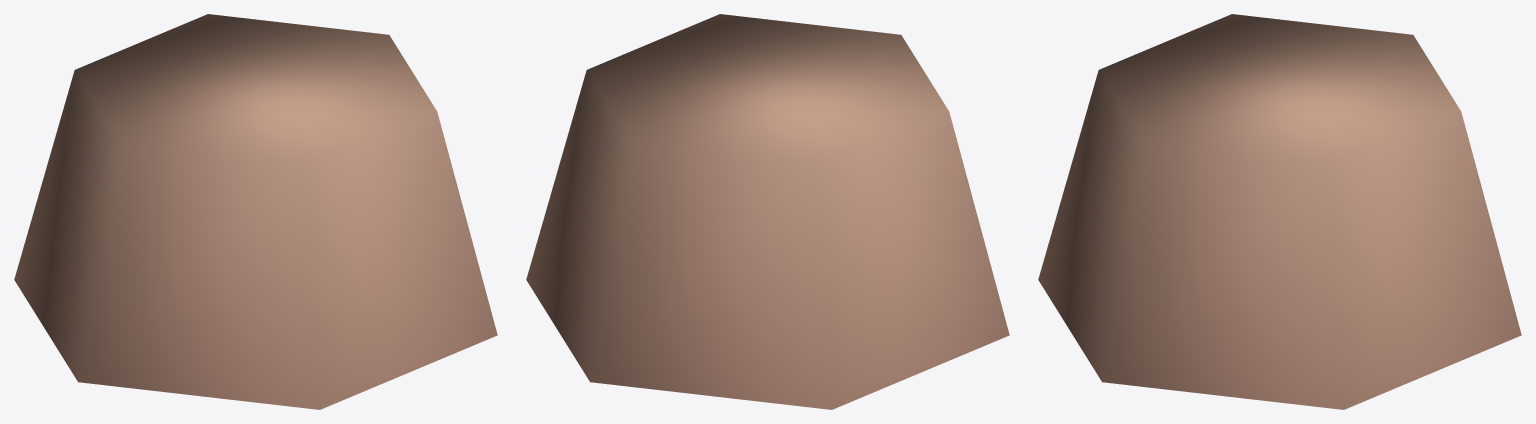
The model's file is (%no-merge) 3_0.glb.
3 renders of one model, left to right at view 1: azimuth 30°, elevation 25°; view 2: azimuth 150°, elevation 25°; view 3: azimuth 270°, elevation 25°, orthographic.
Parts seen in each view (by area): view 1: (%no-merge) 3; view 2: (%no-merge) 3; view 3: (%no-merge) 3.
Part boxes in pixels (x1,y1,x2,y2): (%no-merge) 3: (14,14,497,409); (%no-merge) 3: (526,14,1009,409); (%no-merge) 3: (1038,14,1521,409).
Bounding box in the file's own units: 0.0405 × 0.02 × 0.0404.
